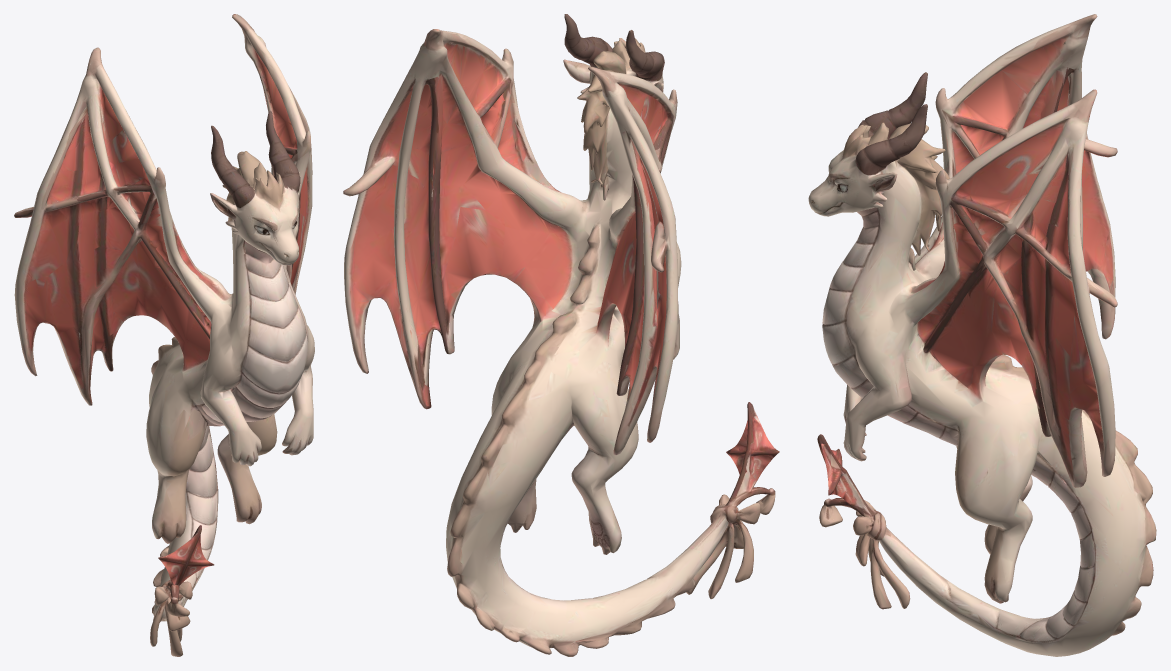
The picture shows the model from 3 angles, left to right: view 1: azimuth 30°, elevation 25°; view 2: azimuth 150°, elevation 25°; view 3: azimuth 270°, elevation 25°; orthographic projection. The views are drawn at different scales.
Parts seen in each view (by area): view 1: Mesh_0; view 2: Mesh_0; view 3: Mesh_0.
Part boxes in pixels (<box>): Mesh_0: <box>14,14,314,656</box>; Mesh_0: <box>343,14,779,656</box>; Mesh_0: <box>808,14,1156,656</box>.
Bounding box in the file's own units: 1.06 × 1.9 × 0.9726.
Materials: 1 (1 with a texture image).
